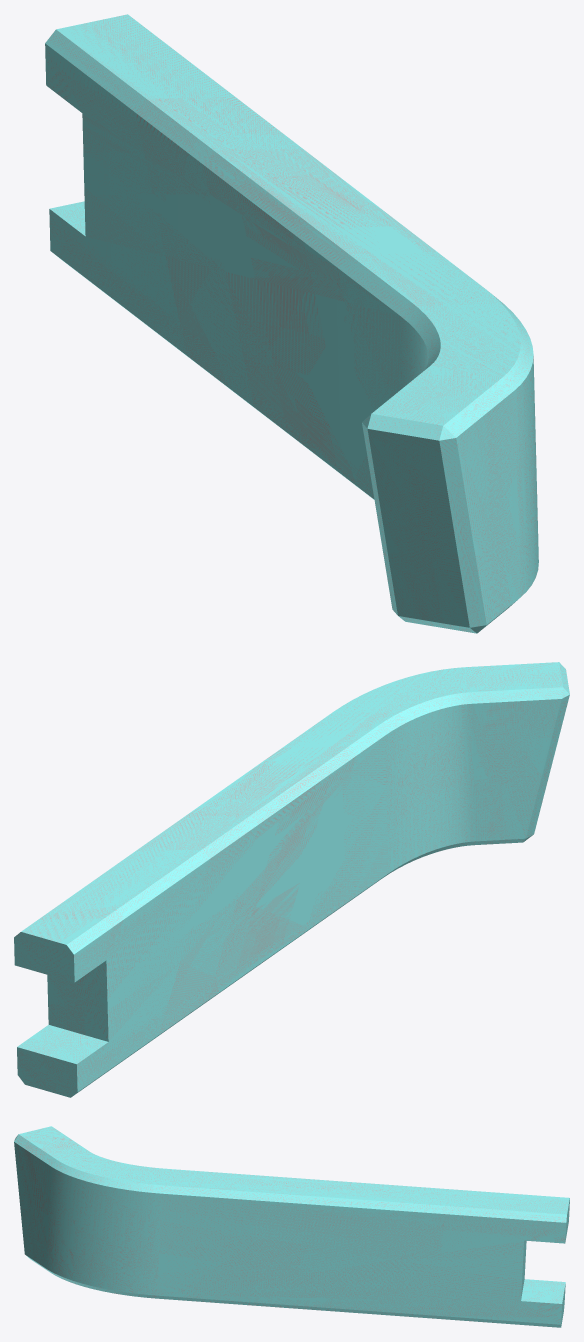
Rendered from original-12.obj.
3 views of the same model, one above another, from view 1: azimuth 30°, elevation 25°; view 2: azimuth 150°, elevation 25°; view 3: azimuth 270°, elevation 25° (orthographic). The views are drawn at different scales.
Visible parts, largest first — view 1: Group_6_2/Group_6_1_2/mesh35/mesh35-geometry#mesh35-geometry; view 2: Group_6_2/Group_6_1_2/mesh35/mesh35-geometry#mesh35-geometry; view 3: Group_6_2/Group_6_1_2/mesh35/mesh35-geometry#mesh35-geometry.
Part boxes in pixels (box(x1,y1,x2,y2)): Group_6_2/Group_6_1_2/mesh35/mesh35-geometry#mesh35-geometry: box(45, 14, 538, 633); Group_6_2/Group_6_1_2/mesh35/mesh35-geometry#mesh35-geometry: box(14, 662, 569, 1097); Group_6_2/Group_6_1_2/mesh35/mesh35-geometry#mesh35-geometry: box(14, 1126, 569, 1327).
Size of the model in its own units: 0.0188 by 0.0169 by 0.0624.
